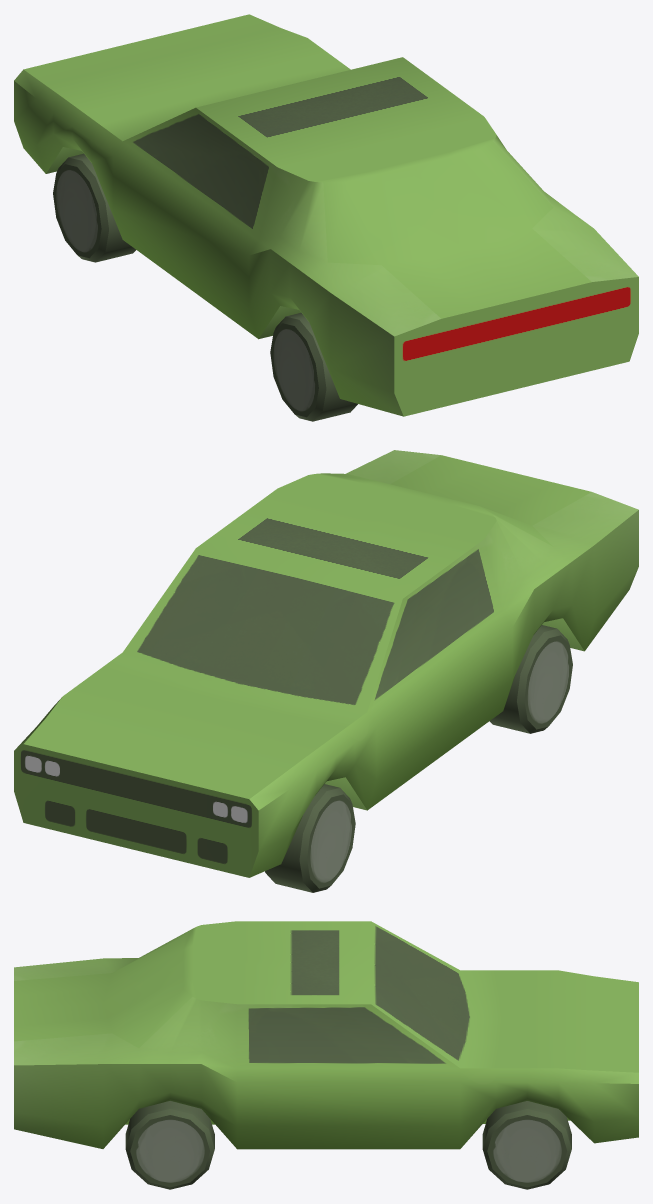
The model's file is car (1).fbx.
3 views of the same model, one above another, from view 1: azimuth 30°, elevation 25°; view 2: azimuth 150°, elevation 25°; view 3: azimuth 270°, elevation 25° (orthographic). The views are drawn at different scales.
Parts seen in each view (by area): view 1: Cube; view 2: Cube; view 3: Cube.
Boxes of the visible parts, left/top/right/bottom form: Cube: left=14, top=14, right=638, bottom=421; Cube: left=14, top=450, right=638, bottom=892; Cube: left=14, top=921, right=638, bottom=1189.
Size of the model in its own units: 280 by 220 by 700.
Materials: 1 (1 with a texture image).
